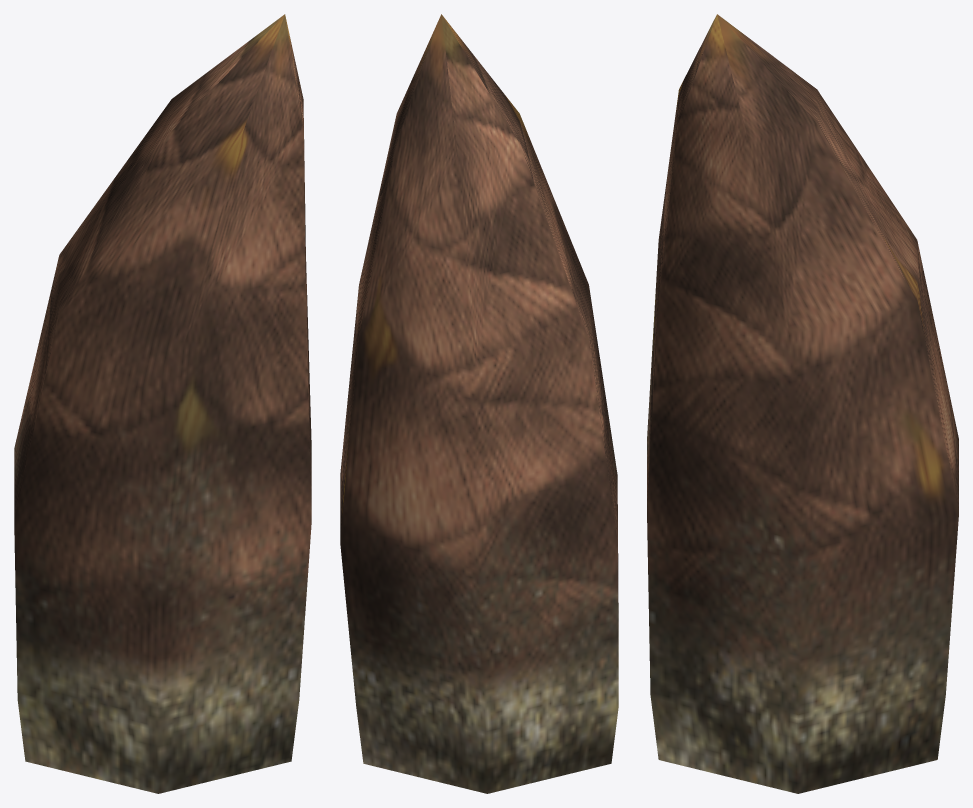
Rendered from bambooshoot02.fbx.
3 renders of one model, left to right at view 1: azimuth 30°, elevation 25°; view 2: azimuth 150°, elevation 25°; view 3: azimuth 270°, elevation 25°, orthographic. The views are drawn at different scales.
Visible parts, largest first — view 1: mdl_LOD0; view 2: mdl_LOD0; view 3: mdl_LOD0.
Part boxes in pixels (bbox=[...]): mdl_LOD0: bbox=[14, 14, 311, 793]; mdl_LOD0: bbox=[340, 14, 618, 793]; mdl_LOD0: bbox=[647, 14, 958, 793].
Size of what is drawn, in the model's own units: 13.58 by 31.47 by 11.76.
